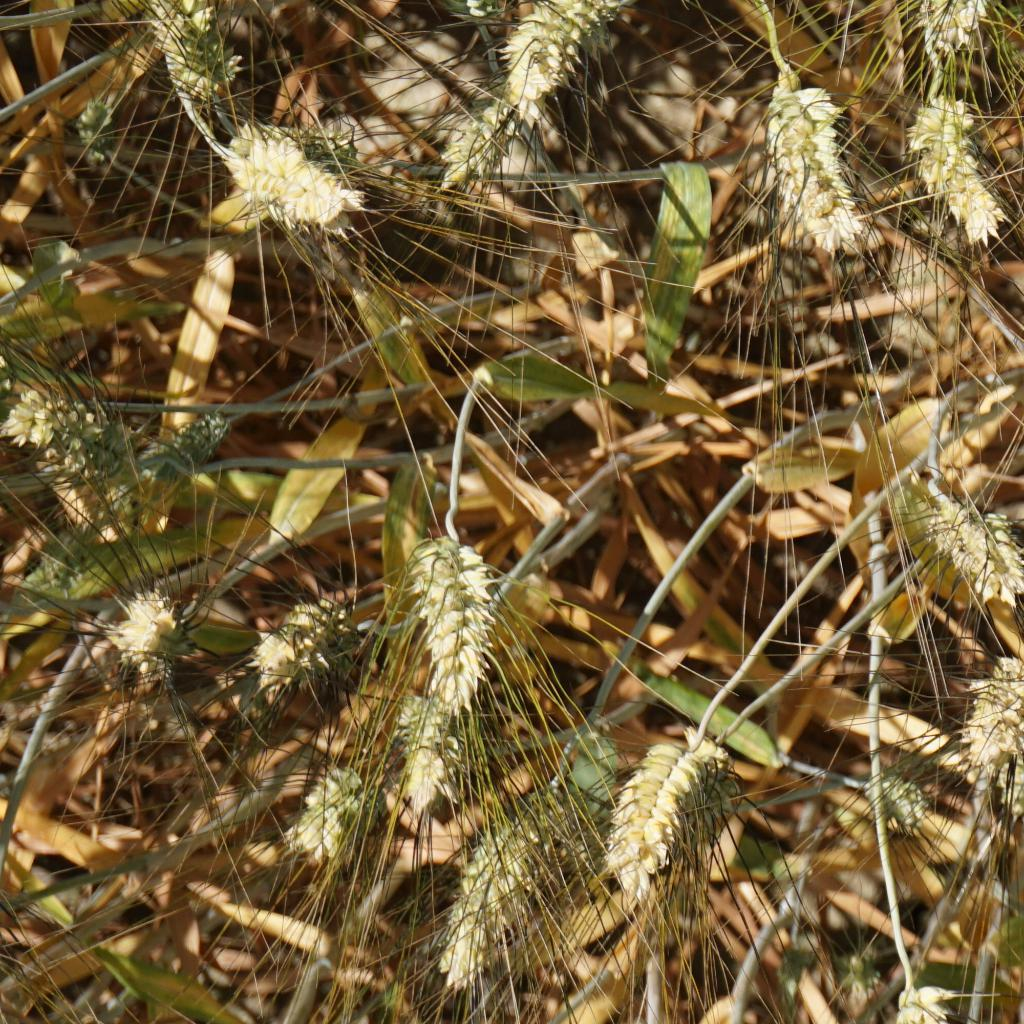0-0: (433, 772, 578, 992), (742, 58, 864, 263), (602, 723, 704, 905), (0, 382, 147, 505), (410, 521, 500, 715), (225, 126, 378, 235), (232, 588, 370, 704), (491, 0, 616, 128), (920, 94, 1018, 248), (659, 724, 766, 864), (222, 106, 385, 185), (922, 499, 1024, 619), (133, 0, 247, 107), (92, 585, 205, 683), (126, 399, 245, 485), (286, 758, 375, 870), (380, 689, 459, 806), (431, 94, 510, 188), (960, 657, 1024, 766), (866, 753, 930, 843), (34, 513, 96, 598), (72, 95, 132, 173), (408, 0, 508, 42), (918, 0, 1003, 49)
